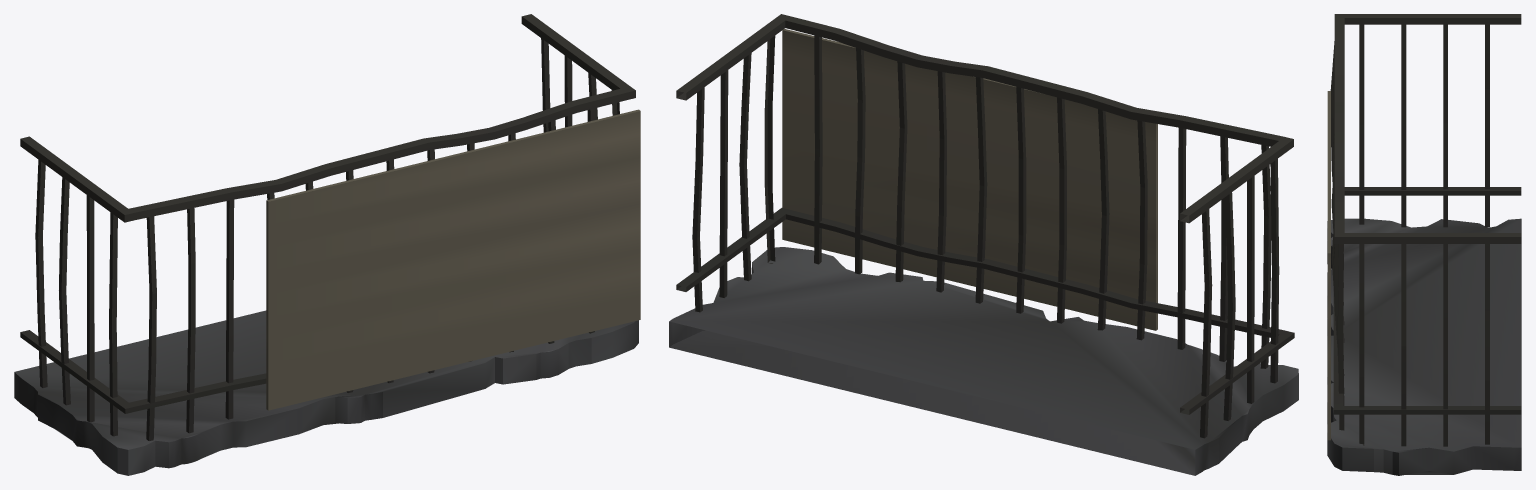
File: OpenThird.fbx
3 views of the same model, side by side, from view 1: azimuth 30°, elevation 25°; view 2: azimuth 150°, elevation 25°; view 3: azimuth 270°, elevation 25° (orthographic). The views are drawn at different scales.
Visible parts, largest first — view 1: Plane.017; view 2: Plane.017; view 3: Plane.017.
Part boxes in pixels (<box>): Plane.017: <box>14,14,640,475</box>; Plane.017: <box>669,14,1298,475</box>; Plane.017: <box>1327,14,1521,475</box>.
Size of the model in its own units: 6.87 by 2.46 by 3.32.
